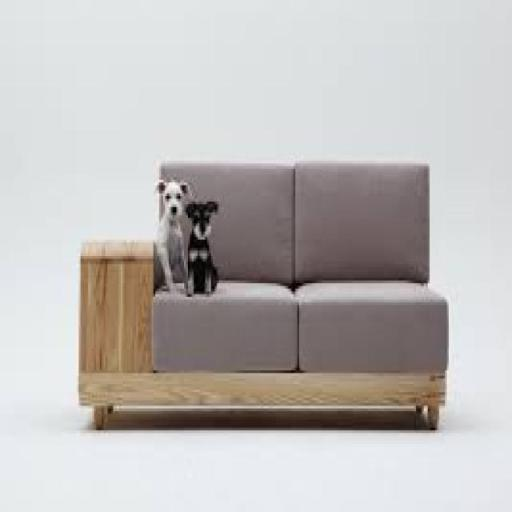sofa: (62, 120, 478, 492)
